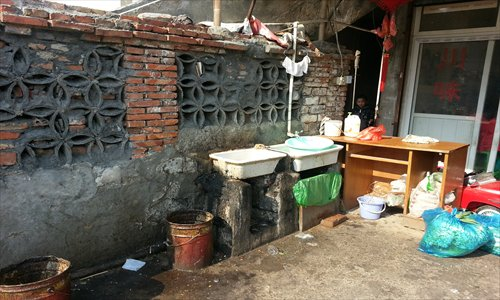bucket: (355, 193, 389, 224)
container: (161, 202, 216, 274), (1, 246, 75, 298), (212, 137, 285, 177), (355, 190, 390, 223)
trash: (426, 199, 500, 268)
